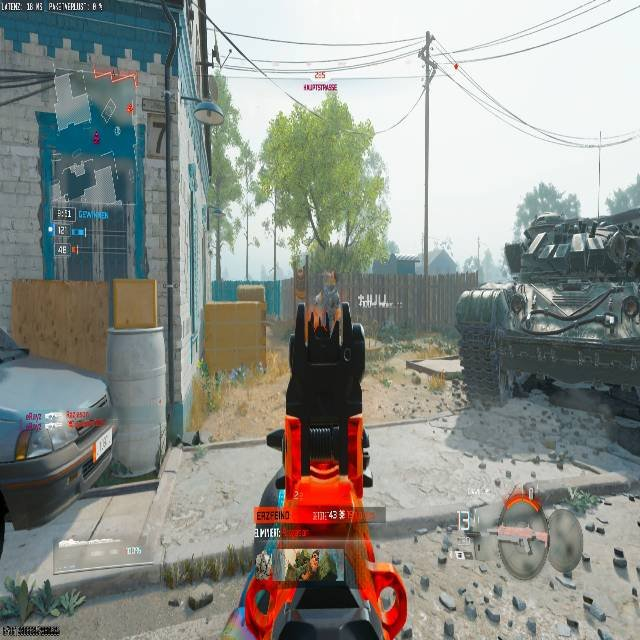player: (317, 275, 339, 315)
